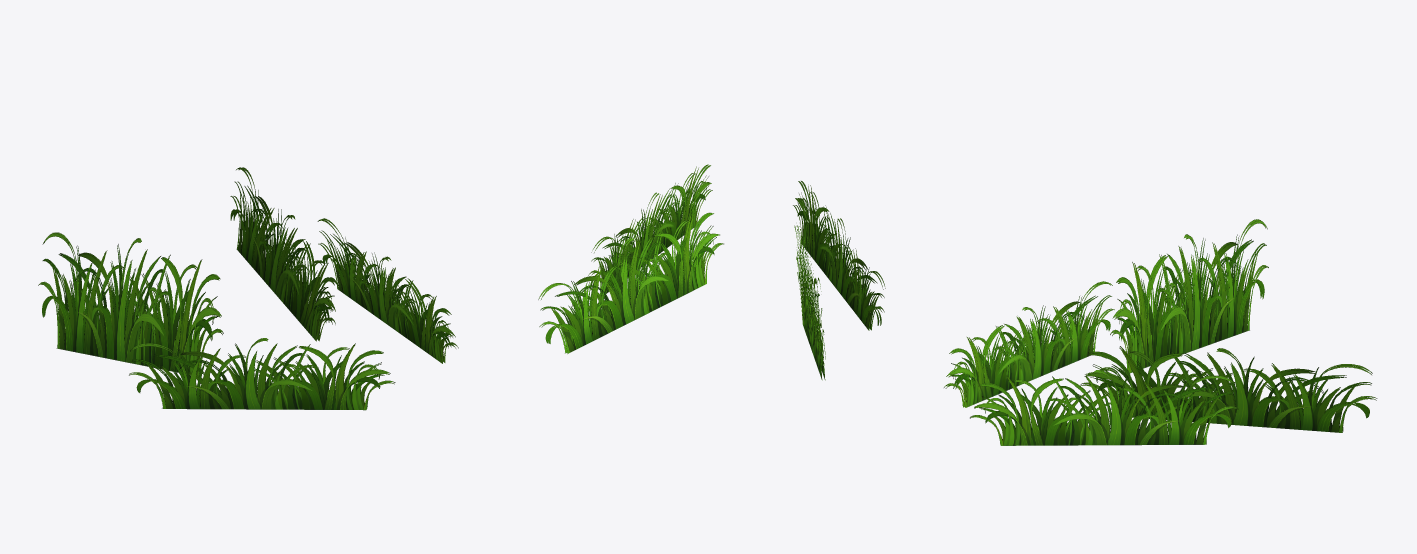
Rendered from grass.fbx.
3 renders of one model, left to right at view 1: azimuth 30°, elevation 25°; view 2: azimuth 150°, elevation 25°; view 3: azimuth 270°, elevation 25°, orthographic. The views are drawn at different scales.
Parts seen in each view (by area): view 1: pPlane6, pPlane7, pPlane5, pPlane4; view 2: pPlane5, pPlane7, pPlane4, pPlane6; view 3: pPlane6, pPlane4, pPlane5, pPlane7.
Boxes of the visible parts, left/top/right/bottom form: pPlane6: left=38, top=232, right=223, bottom=375; pPlane7: left=129, top=338, right=395, bottom=410; pPlane5: left=230, top=167, right=337, bottom=341; pPlane4: left=317, top=218, right=458, bottom=363; pPlane5: left=538, top=212, right=723, bottom=353; pPlane7: left=793, top=181, right=885, bottom=330; pPlane4: left=588, top=164, right=712, bottom=294; pPlane6: left=794, top=225, right=825, bottom=380; pPlane6: left=1110, top=219, right=1268, bottom=373; pPlane4: left=970, top=370, right=1238, bottom=445; pPlane5: left=1080, top=346, right=1377, bottom=432; pPlane7: left=944, top=281, right=1114, bottom=407.
Bounding box in the file's own units: 15.96 × 23.99 × 21.65.
1 material, 1 textured.
